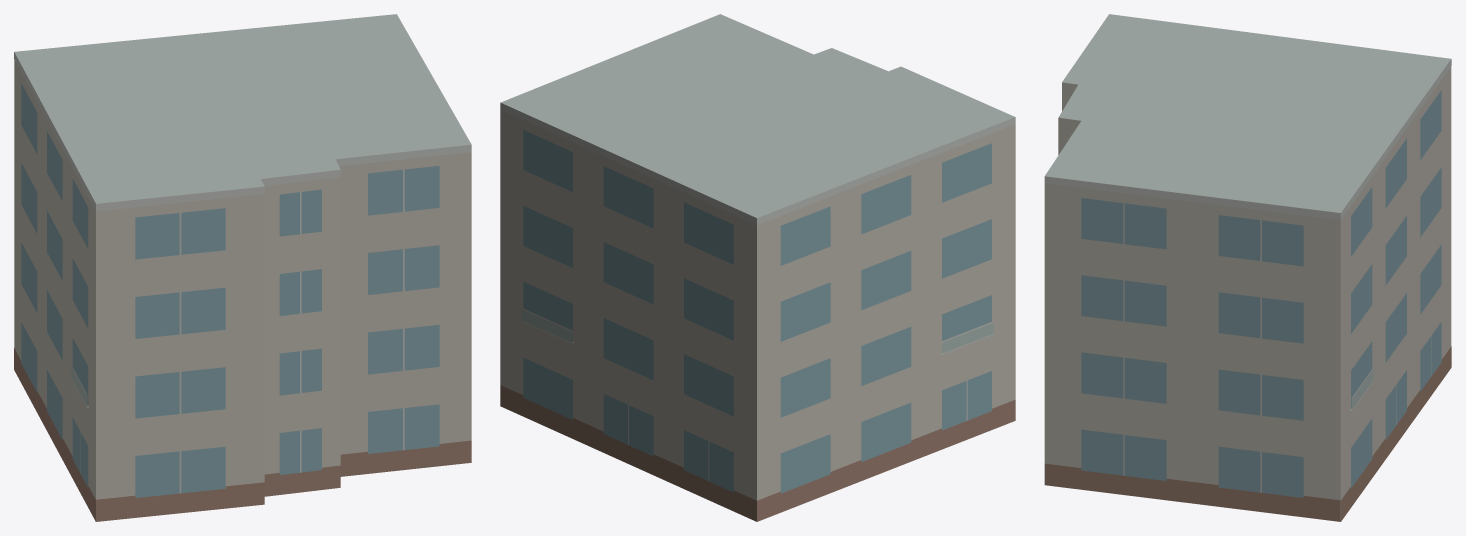
File: survey-upis-32877746.glb
3 views of the same model, side by side, from view 1: azimuth 30°, elevation 25°; view 2: azimuth 150°, elevation 25°; view 3: azimuth 270°, elevation 25° (orthographic). The views are drawn at different scales.
Visible parts, largest first — view 1: survey-upis-32877746.tmp; view 2: survey-upis-32877746.tmp; view 3: survey-upis-32877746.tmp.
Part boxes in pixels (x1,y1,x2,y2): survey-upis-32877746.tmp: (14, 14, 471, 521); survey-upis-32877746.tmp: (500, 14, 1015, 521); survey-upis-32877746.tmp: (1044, 14, 1451, 521).
Bounding box in the file's own units: 14.53 × 10.5 × 12.55.
